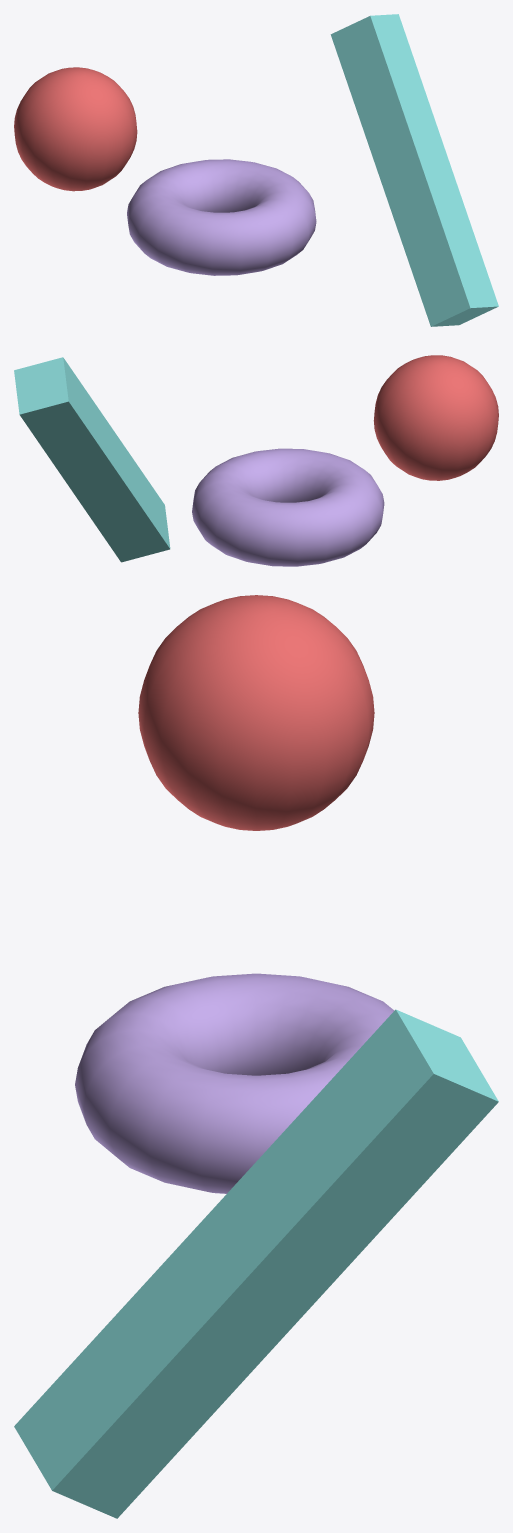
File: GroupTest.fbx
3 views of the same model, one above another, from view 1: azimuth 30°, elevation 25°; view 2: azimuth 150°, elevation 25°; view 3: azimuth 270°, elevation 25° (orthographic). The views are drawn at different scales.
Visible parts, largest first — view 1: pCube2, pTorus2, pSphere2; view 2: pTorus2, pCube2, pSphere2; view 3: pCube2, pTorus2, pSphere2.
Part boxes in pixels (bbox=[...]): pCube2: bbox=[330, 14, 498, 326]; pTorus2: bbox=[127, 159, 316, 275]; pSphere2: bbox=[14, 67, 137, 191]; pTorus2: bbox=[192, 448, 384, 566]; pCube2: bbox=[14, 357, 170, 562]; pSphere2: bbox=[373, 355, 498, 480]; pCube2: bbox=[14, 1009, 498, 1518]; pTorus2: bbox=[75, 973, 394, 1193]; pSphere2: bbox=[138, 595, 374, 830].
Bounding box in the file's own units: 311 × 218 × 162.
